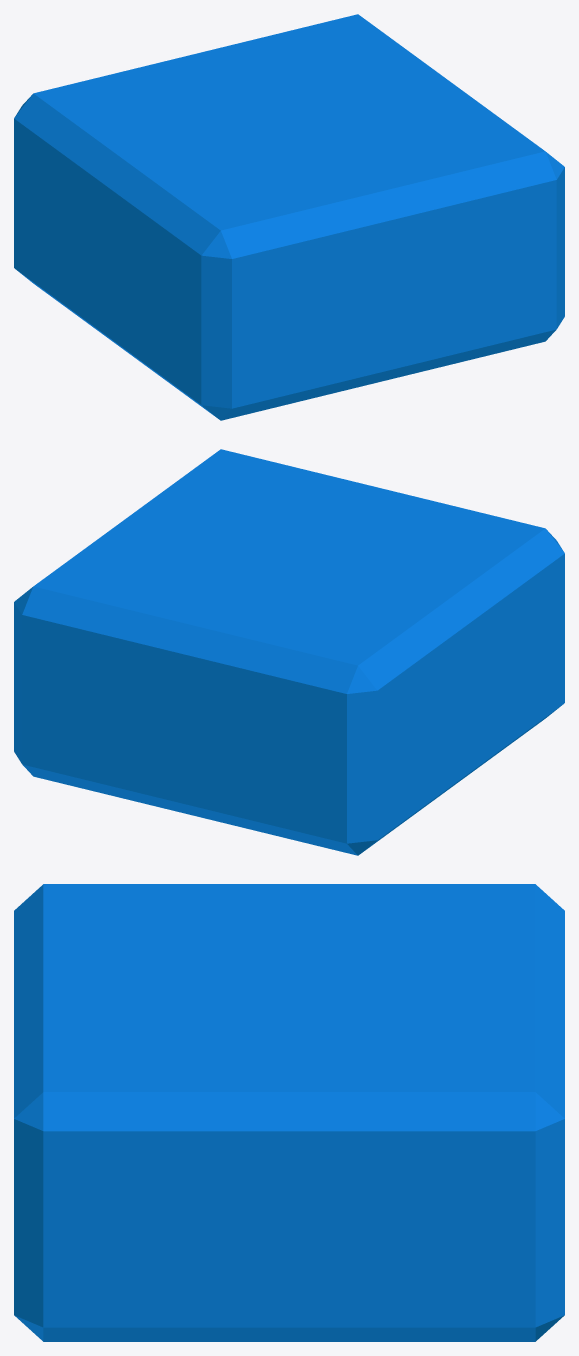
The model's file is block-noneon-large.glb.
3 views of the same model, one above another, from view 1: azimuth 30°, elevation 25°; view 2: azimuth 150°, elevation 25°; view 3: azimuth 270°, elevation 25° (orthographic). The views are drawn at different scales.
Visible parts, largest first — view 1: Cube; view 2: Cube; view 3: Cube.
Boxes of the visible parts, box(x1,y1,x2,y2) form: Cube: box(14, 14, 564, 420); Cube: box(14, 449, 564, 855); Cube: box(14, 884, 564, 1341).
Bounding box in the file's own units: 2 × 1 × 2.
